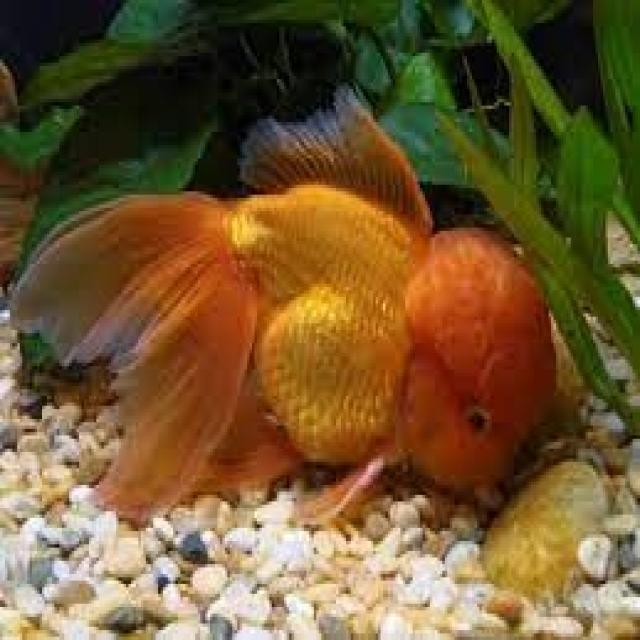Gold-Fish: (61, 40, 571, 610)
